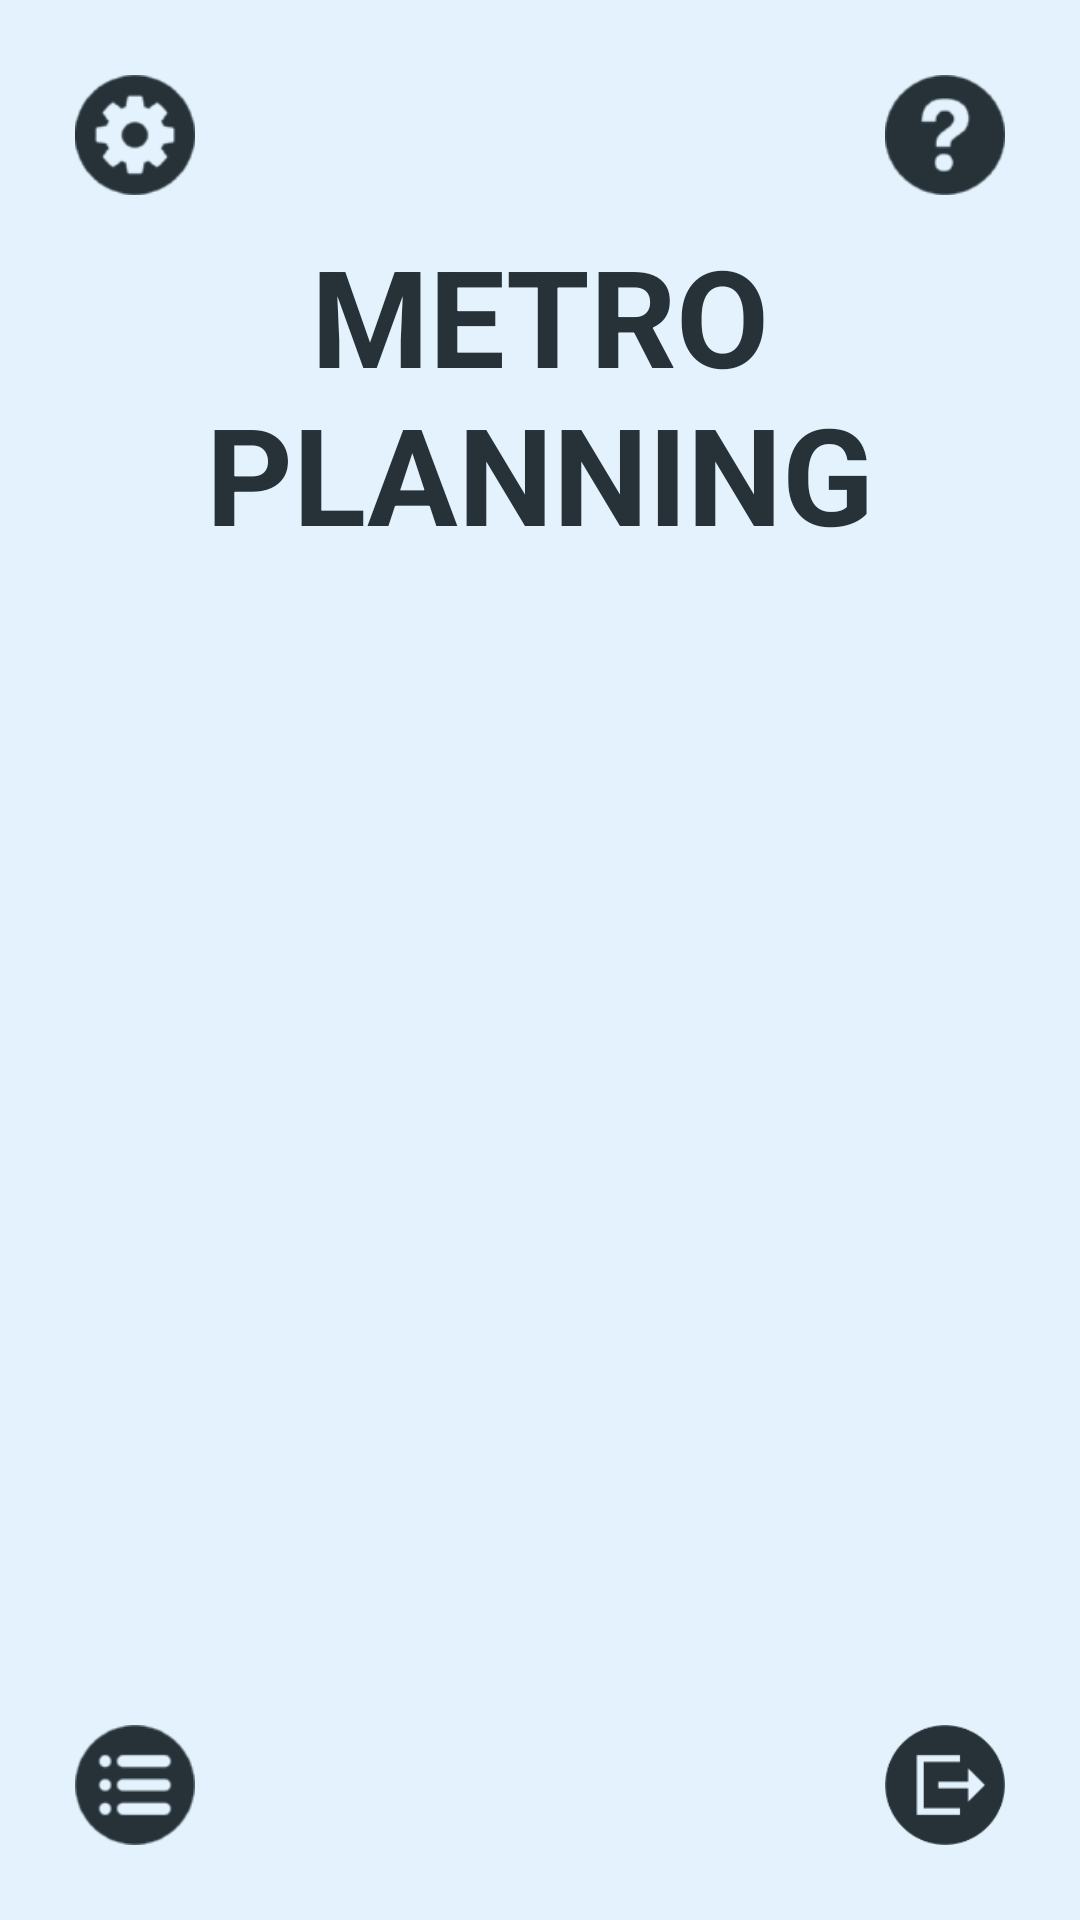

Where to tap for icons on this 1080px×1920px app screen, as (x,y):
exit: (945,1785)
help: (945,135)
list: (135,1785)
setting: (135,135)
